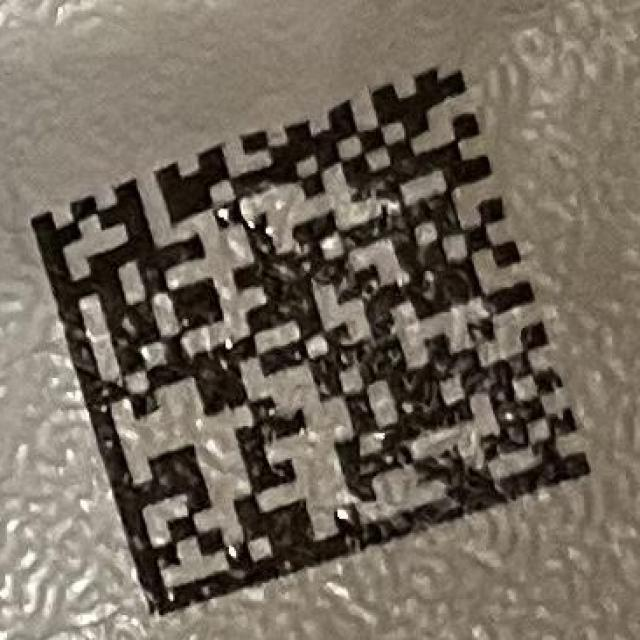QR_CODE: (30, 63, 592, 616)
